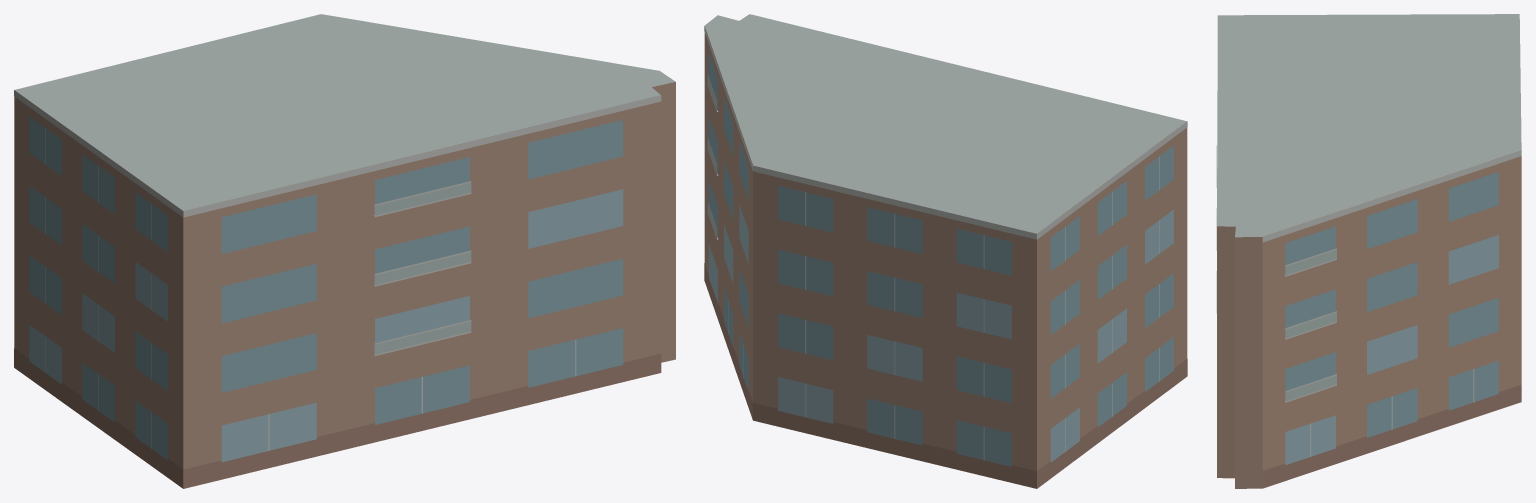
The model's file is survey-upis-32820396.glb.
The picture shows the model from 3 angles, left to right: view 1: azimuth 30°, elevation 25°; view 2: azimuth 150°, elevation 25°; view 3: azimuth 270°, elevation 25°; orthographic projection. The views are drawn at different scales.
Visible parts, largest first — view 1: survey-upis-32820396.tmp; view 2: survey-upis-32820396.tmp; view 3: survey-upis-32820396.tmp.
Boxes of the visible parts, x1=… form: survey-upis-32820396.tmp: x1=14, y1=14, x2=675, y2=488; survey-upis-32820396.tmp: x1=704, y1=14, x2=1187, y2=488; survey-upis-32820396.tmp: x1=1216, y1=14, x2=1521, y2=488.
Size of the model in its own units: 20.16 by 10.6 by 11.66.
